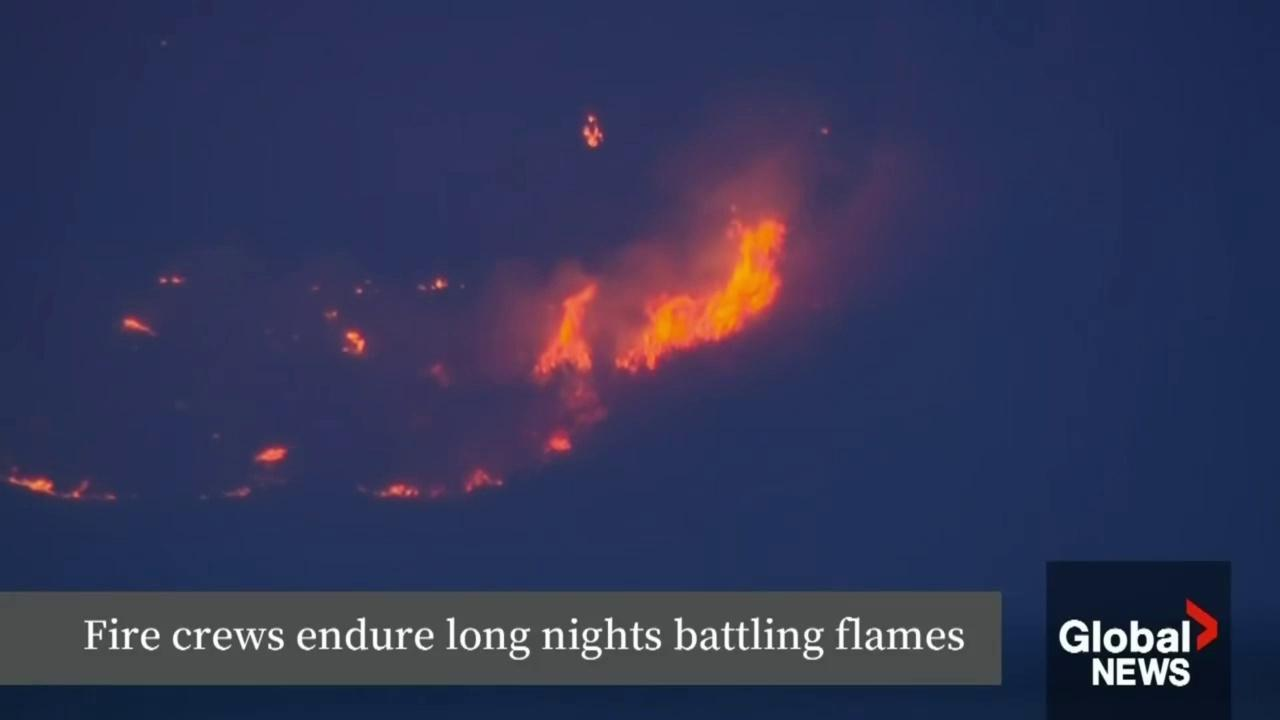fire: (617, 201, 791, 375), (526, 271, 603, 383), (5, 469, 117, 505), (363, 476, 421, 502), (459, 469, 508, 494), (335, 327, 370, 360), (536, 430, 572, 462), (583, 112, 608, 156), (119, 313, 159, 339), (415, 273, 453, 295), (252, 443, 289, 465), (221, 482, 259, 500), (157, 275, 187, 287)
